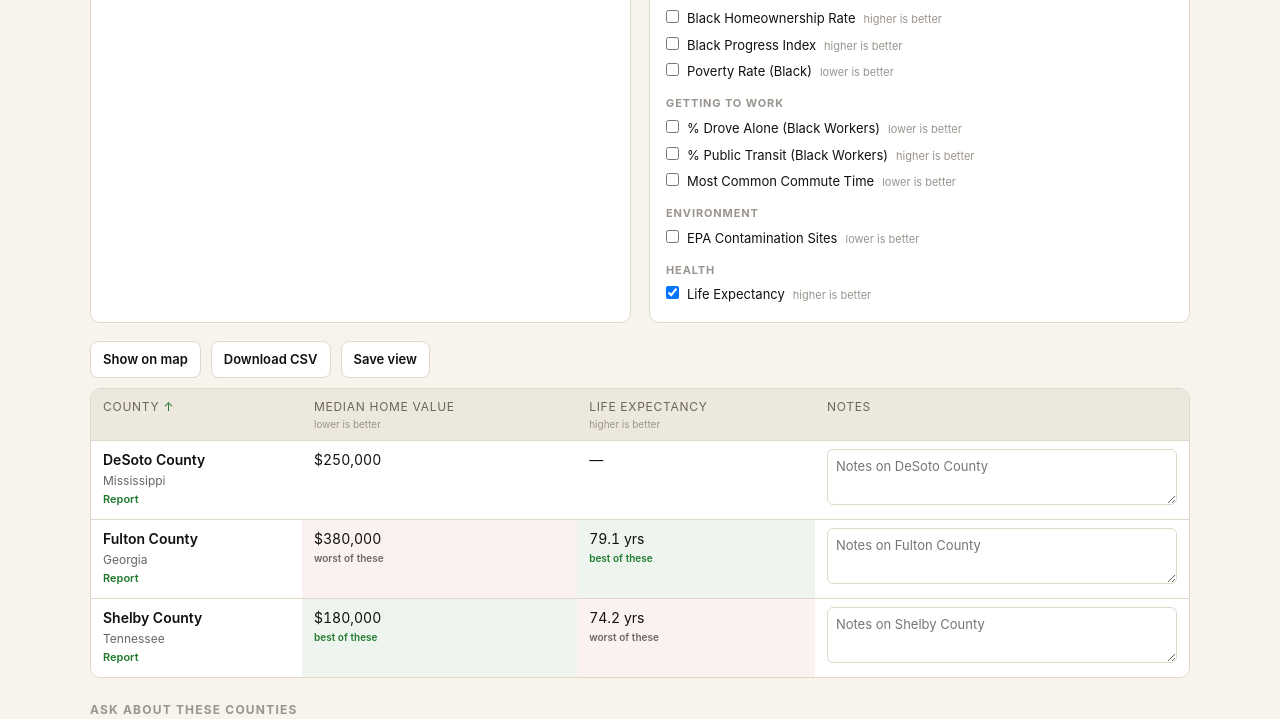
Test: CompareView — saving a comparison (P5-55) › says what went wrong when the save is refused
(page scrolled)
Click the button with test id "compare-save".
click(385, 359)  # box [340,341,430,378]
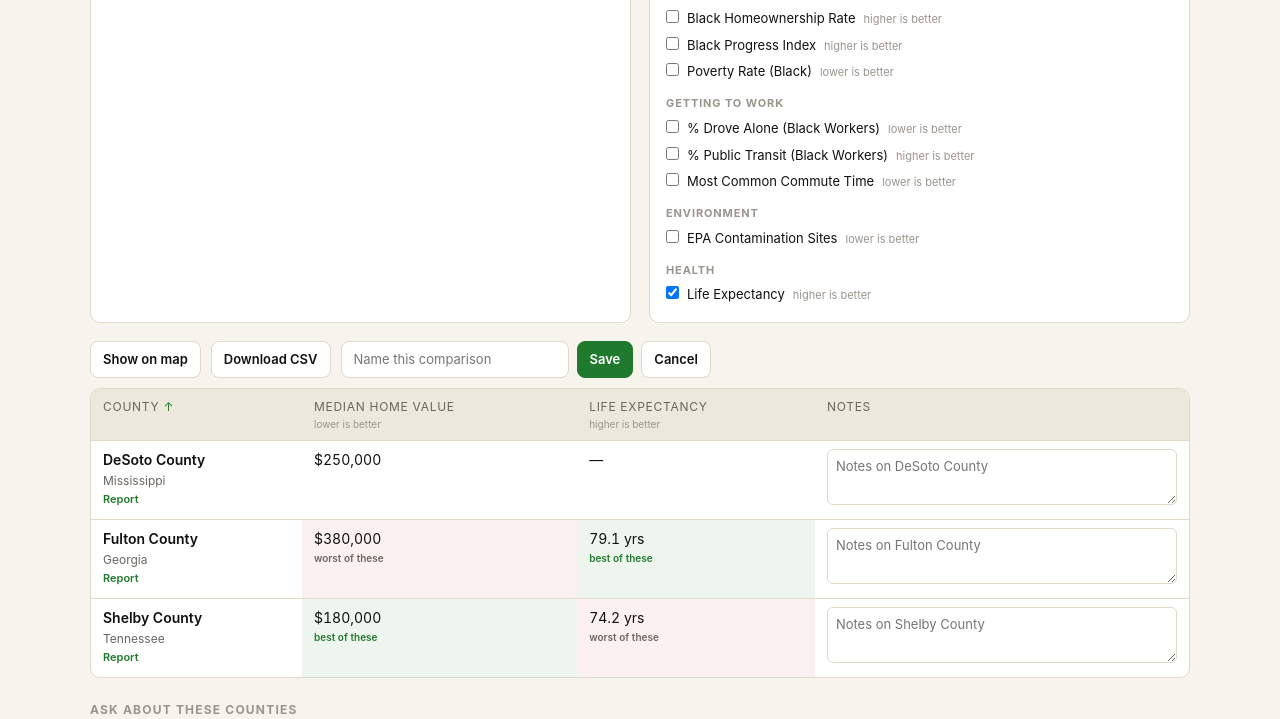
Type "Nope" into the field with test id "compare-save-name".
click(454, 359); type("Nope")  # box [340,341,568,378]
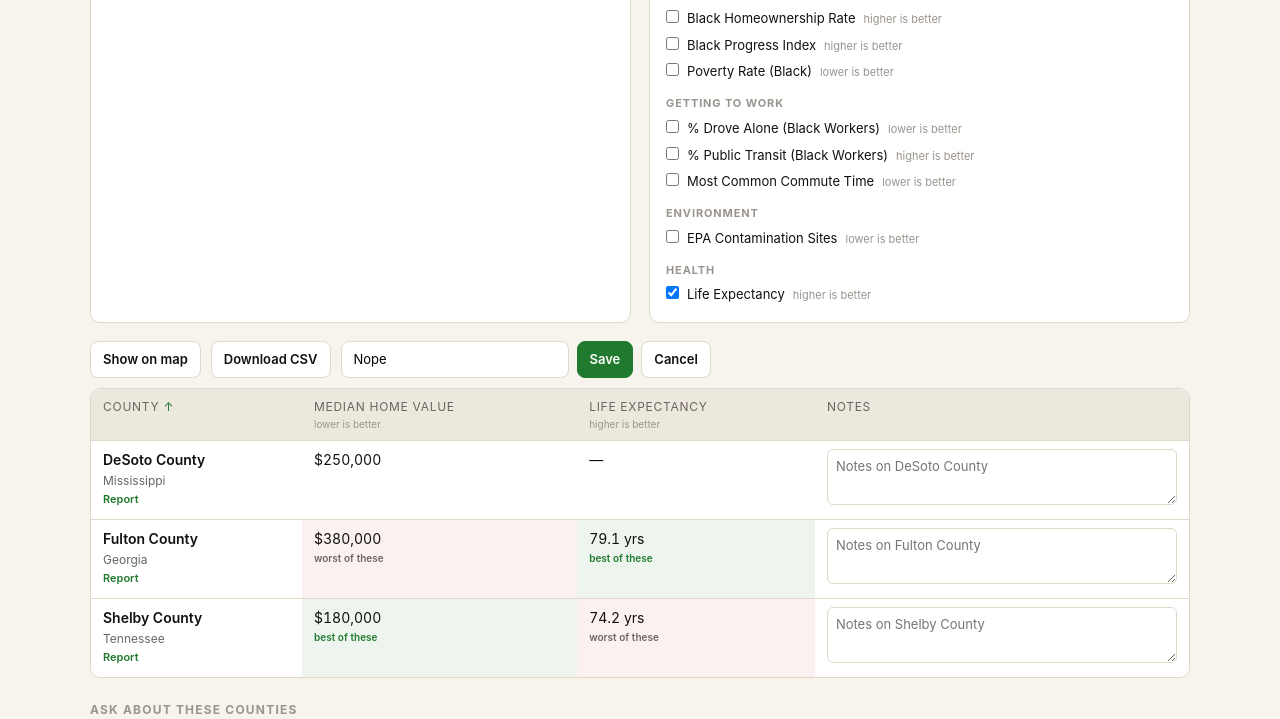
Submit the form with test id "compare-save-form", box [340,341,711,378]
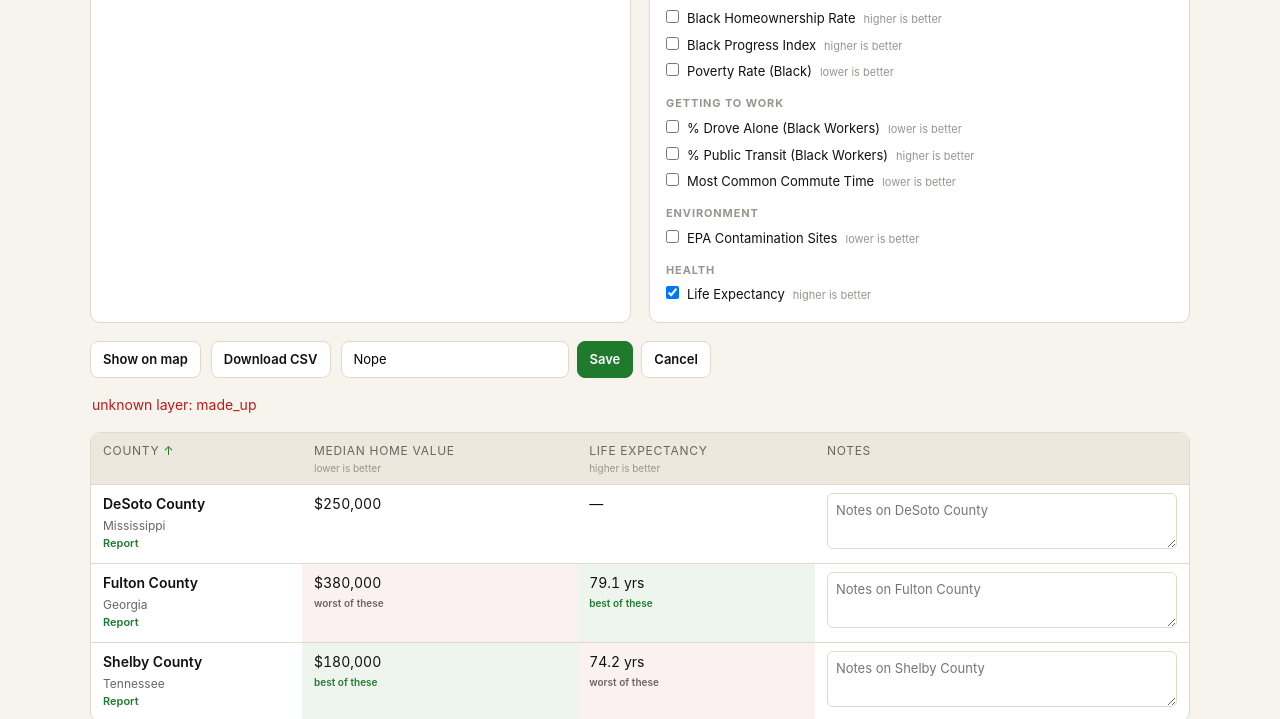
Expected: the text with test id "compare-save-error" reads "unknown layer: made_up", [92,396,256,413]
